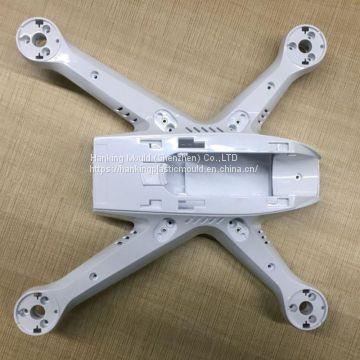drone: (6, 13, 349, 344)
